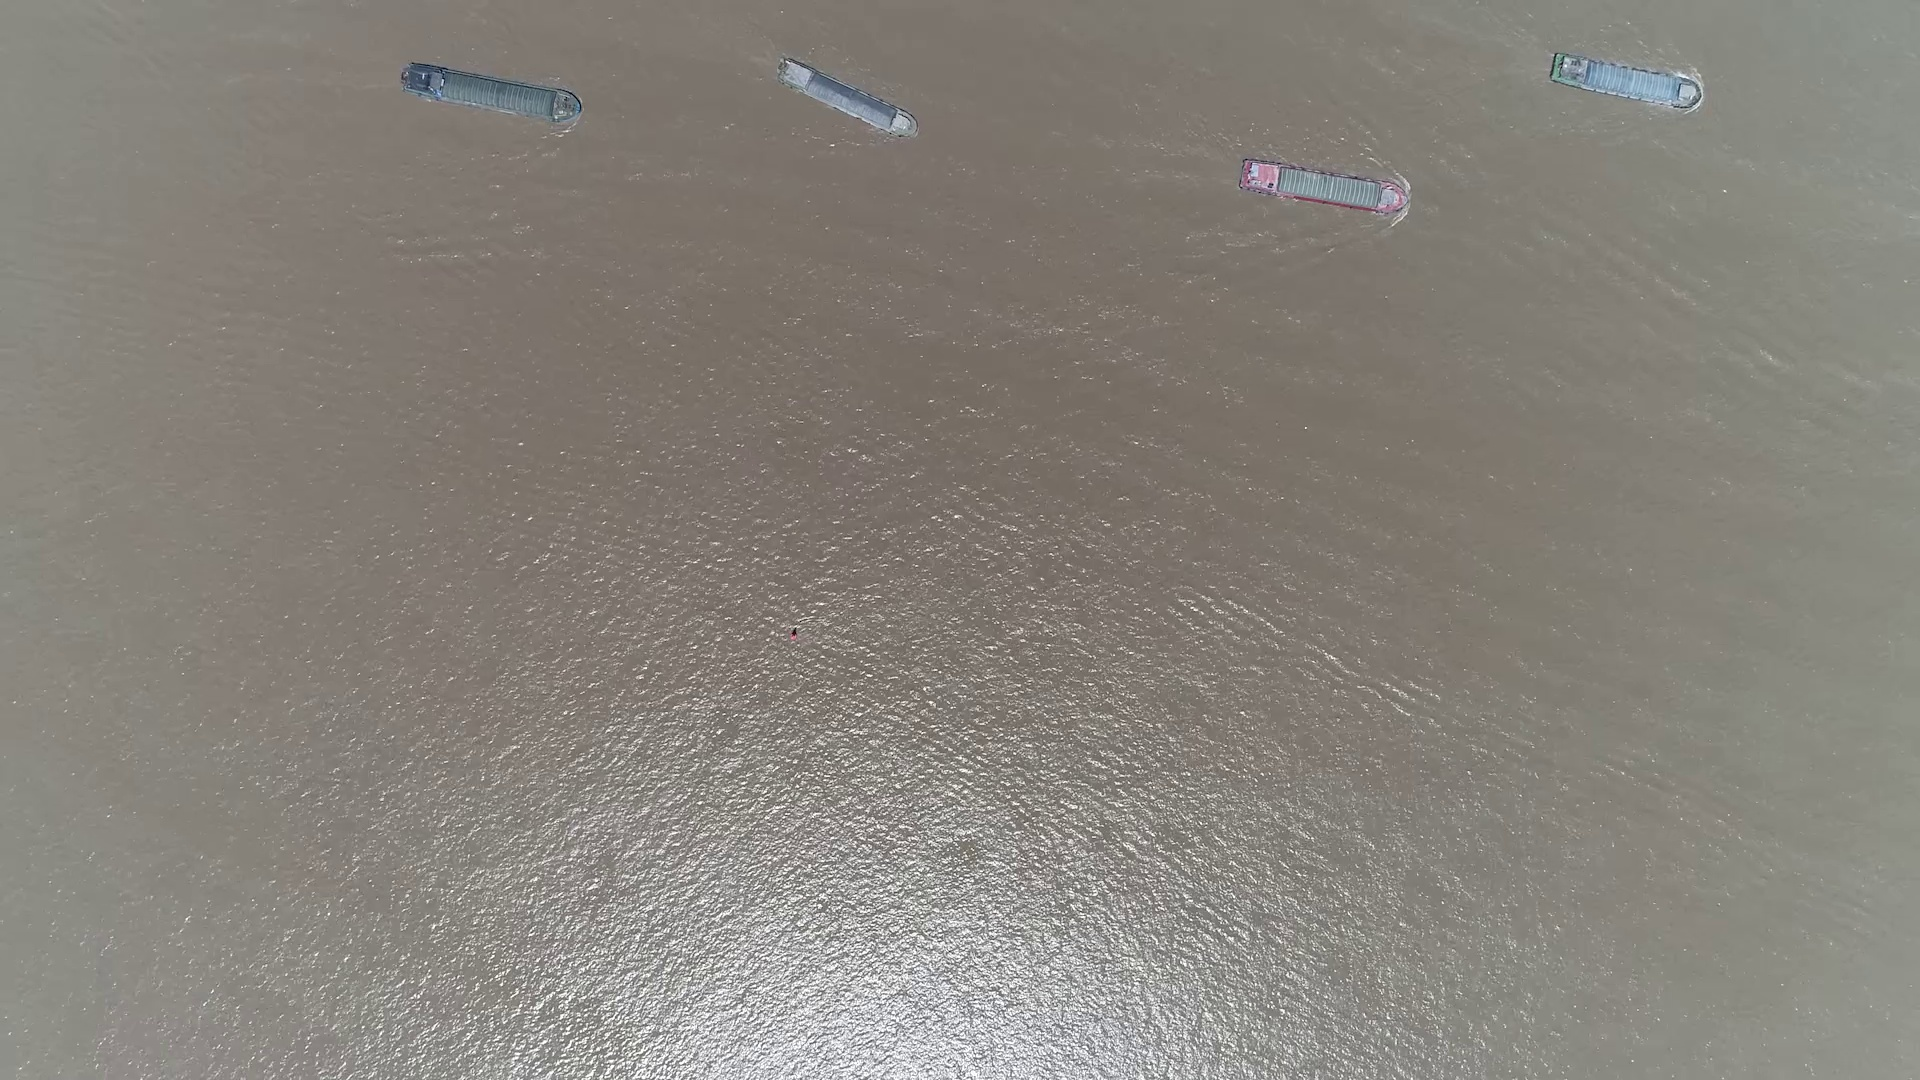ship: (400, 63, 583, 125), (775, 62, 915, 135), (1236, 160, 1414, 215), (1548, 57, 1700, 108)
